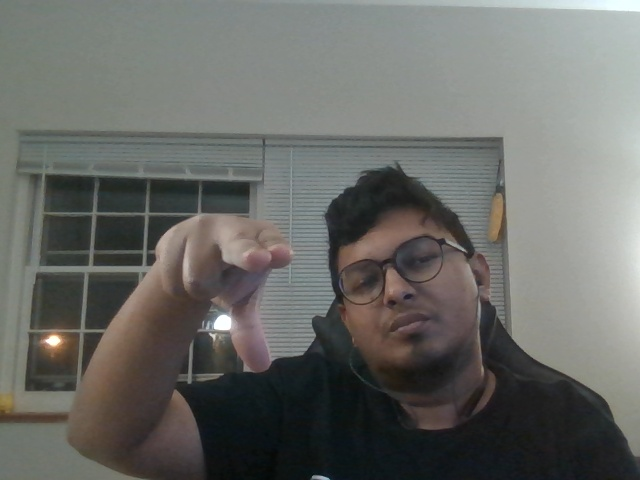no: (138, 203, 302, 376)
